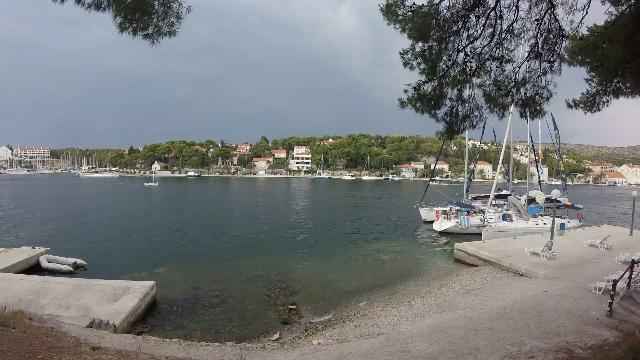Sailboat: (142, 177, 164, 191)
